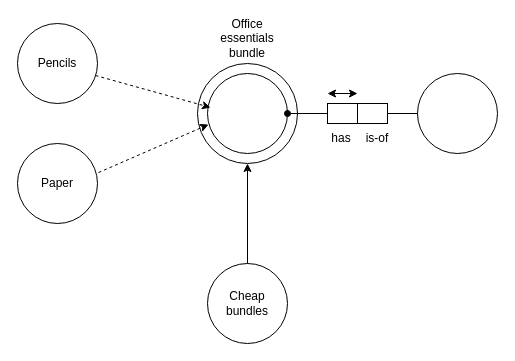
This 515x361 diagram has some shape labels left out. Each missing label, with the centre of its shape:
"Items" belongs at [247,113].
"Price" belongs at [457,113].
